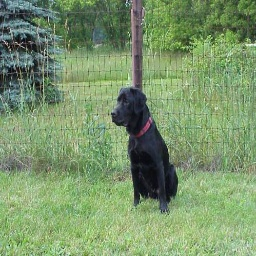dog: (109, 85, 178, 216)
